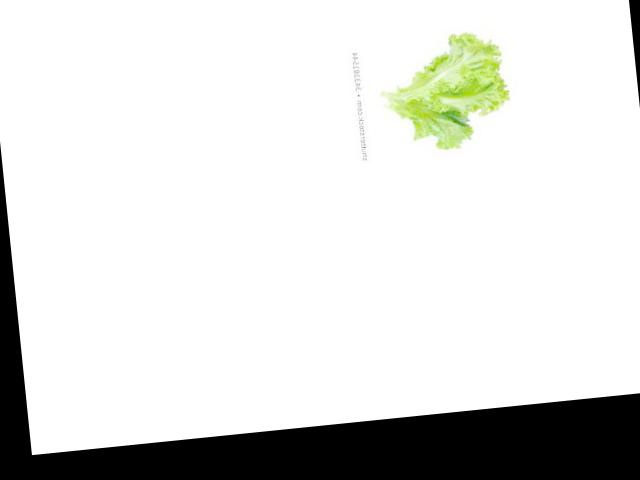lettuce: (329, 52, 505, 177)
